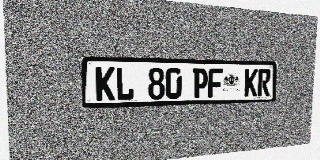0: (165, 68, 182, 99)
8: (148, 67, 165, 100)
F: (208, 68, 223, 98)
K: (95, 67, 115, 101), (244, 69, 258, 97)
L: (116, 67, 134, 100)
P: (192, 68, 208, 98)
R: (257, 69, 271, 96)
